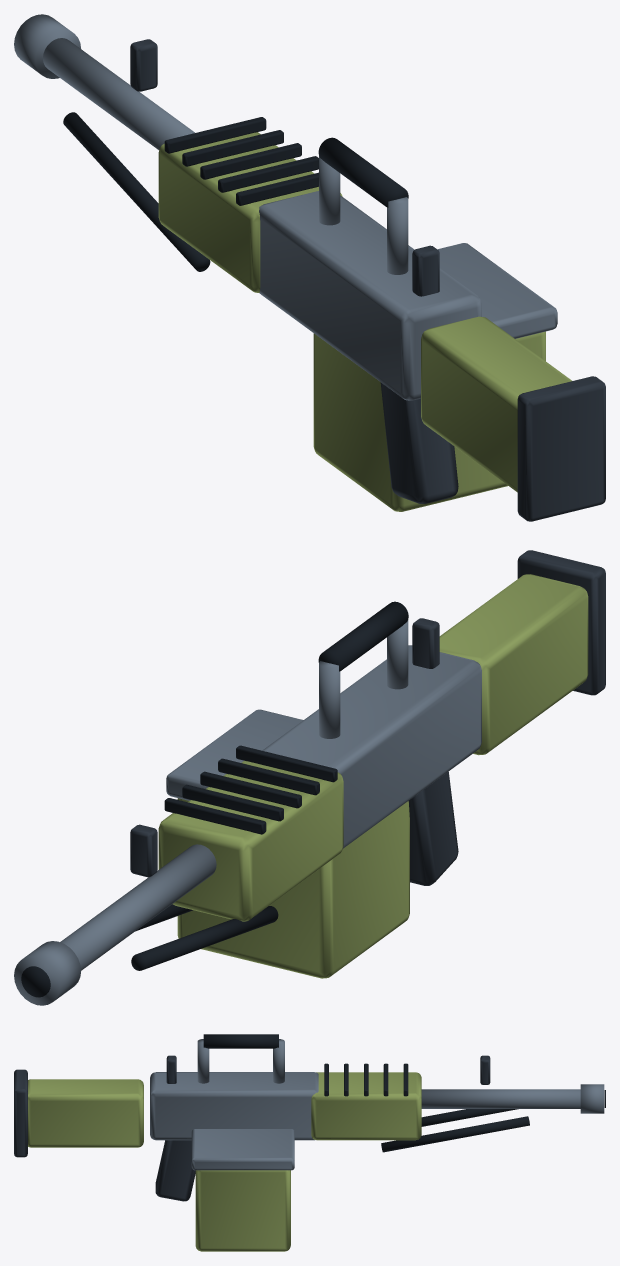
Rendered from light-machine-gun.glb.
The picture shows the model from 3 angles, top to bottom: view 1: azimuth 30°, elevation 25°; view 2: azimuth 150°, elevation 25°; view 3: azimuth 270°, elevation 25°; orthographic projection. The views are drawn at different scales.
Parts seen in each view (by area): view 1: heavy receiver, stock, butt pad, handguard ribs; view 2: stock, heavy receiver, handguard ribs, butt pad; view 3: stock, heavy receiver, handguard ribs, butt pad.
Boxes of the visible parts, left/top/right/bottom form: heavy receiver: left=14, top=14, right=557, bottom=400; stock: left=158, top=132, right=571, bottom=511; butt pad: left=130, top=39, right=605, bottom=521; handguard ribs: left=63, top=112, right=408, bottom=271; stock: left=158, top=574, right=588, bottom=978; heavy receiver: left=14, top=620, right=481, bottom=1005; handguard ribs: left=21, top=601, right=408, bottom=997; butt pad: left=130, top=550, right=605, bottom=885; stock: left=28, top=1072, right=421, bottom=1251; heavy receiver: left=150, top=1039, right=604, bottom=1170; handguard ribs: left=203, top=1034, right=605, bottom=1152; butt pad: left=14, top=1055, right=490, bottom=1201.
Bounding box in the file's own units: 0.325 × 0.498 × 1.49.
